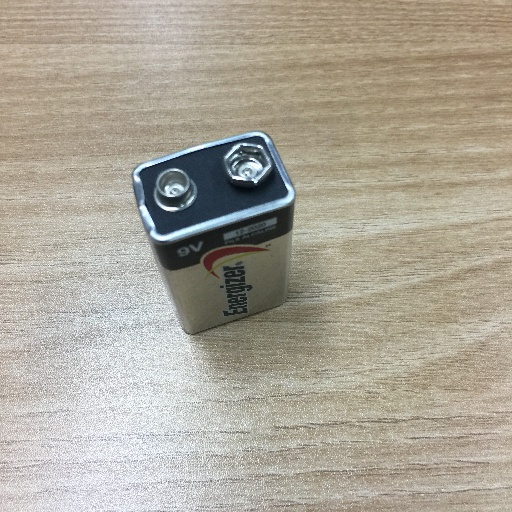Battery_3: (129, 121, 309, 352)
